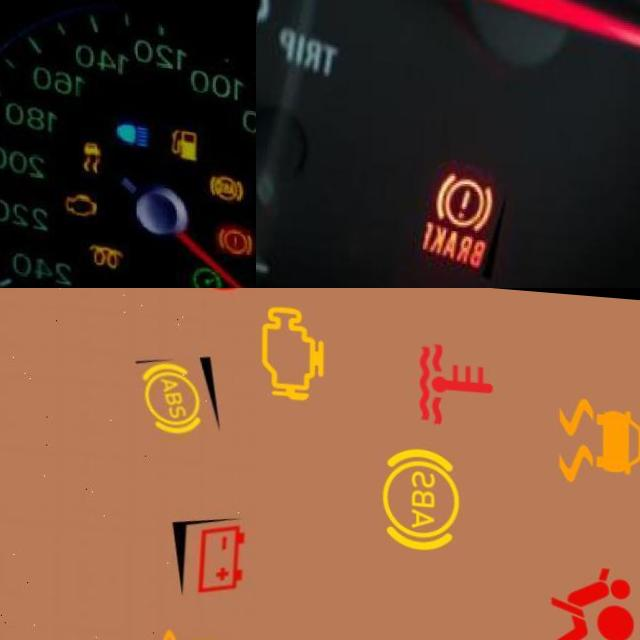High Engine Coolant Temperature: (401, 323, 512, 439)
Low fuel level: (163, 118, 205, 165)
